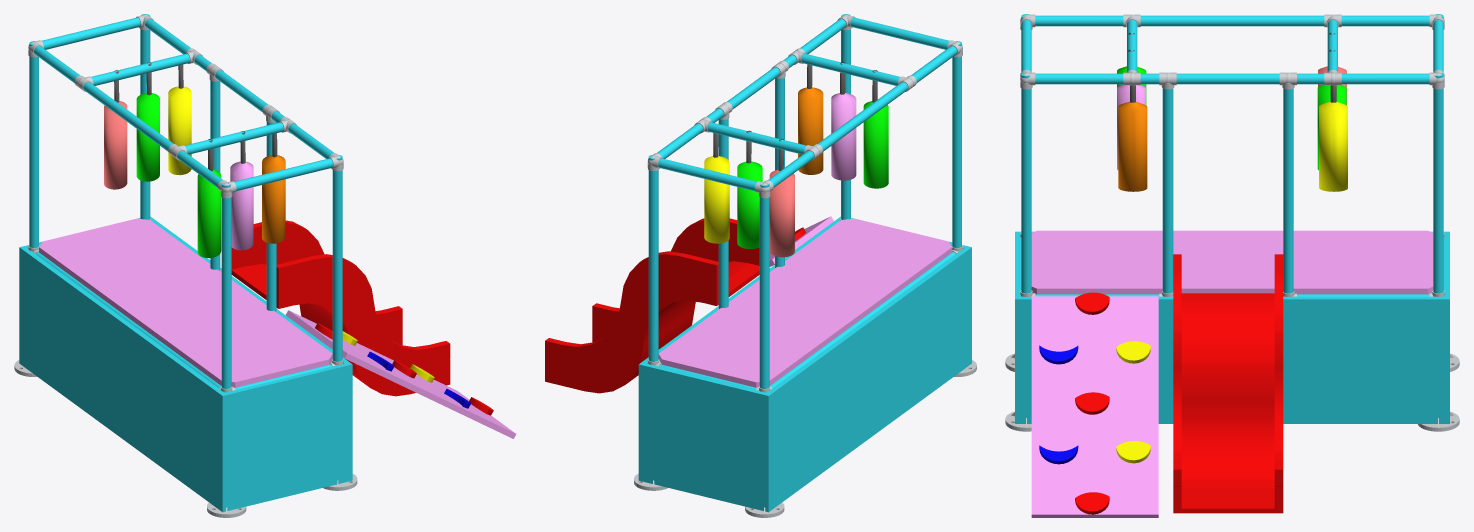
The model's file is playground-baby-sem-rampa-direita.glb.
3 views of the same model, side by side, from view 1: azimuth 30°, elevation 25°; view 2: azimuth 150°, elevation 25°; view 3: azimuth 270°, elevation 25° (orthographic). The views are drawn at different scales.
Parts seen in each view (by area): view 1: Group19, Group18, Group4, Group12, Group1, Group11, Tubo redondo 8, Tubo redondo 12, Tubo redondo 13, Group20, Tubo redondo 3, Tubo redondo 10 (+12 smaller); view 2: Group19, Group18, Group3, Group12, Group1, Tubo redondo 8, Tubo redondo 10, Tubo redondo 11, SACOS_DE_PANCADA_12_1, Group20, Group21, Tubo redondo 3 (+10 smaller); view 3: Group12, Group11, Group18, Group5, Tubo redondo 8, Tubo redondo 3, Group1, Group8, SACOS_DE_PANCADA_12_1, Tubo redondo 15, Tubo redondo 11, Tubo redondo 13 (+9 smaller).
Part boxes in pixels (x1,y1,x2,y2): Group19: [19, 246, 227, 512]; Group18: [39, 218, 332, 387]; Group4: [225, 362, 352, 510]; Group12: [231, 220, 450, 396]; Group1: [197, 131, 285, 258]; Group11: [285, 310, 516, 438]; Tubo redondo 8: [34, 46, 223, 187]; Tubo redondo 12: [221, 182, 231, 388]; Tubo redondo 13: [332, 155, 342, 361]; Group20: [104, 70, 127, 189]; Tubo redondo 3: [145, 19, 334, 158]; Tubo redondo 10: [29, 41, 38, 247]; Group19: [763, 246, 971, 512]; Group18: [658, 218, 952, 387]; Group3: [638, 362, 765, 510]; Group12: [545, 218, 759, 393]; Group1: [798, 62, 888, 188]; Tubo redondo 8: [768, 46, 957, 187]; Tubo redondo 10: [759, 182, 769, 388]; Tubo redondo 11: [648, 155, 658, 361]; SACOS_DE_PANCADA_12_1: [704, 133, 729, 243]; Group20: [769, 138, 794, 257]; Group21: [737, 130, 762, 249]; Tubo redondo 3: [657, 19, 846, 158]; Group12: [1173, 254, 1283, 513]; Group11: [1031, 296, 1158, 517]; Group18: [1031, 230, 1433, 294]; Group5: [1021, 296, 1443, 423]; Tubo redondo 8: [1035, 15, 1429, 26]; Tubo redondo 3: [1035, 73, 1429, 84]; Group1: [1117, 33, 1147, 191]; Group8: [1075, 292, 1150, 514]; SACOS_DE_PANCADA_12_1: [1319, 85, 1347, 191]; Tubo redondo 15: [1162, 88, 1173, 293]; Tubo redondo 11: [1433, 73, 1443, 293]; Tubo redondo 13: [1021, 73, 1031, 293].
Bounding box in the file's own units: 1.83 × 1.84 × 2.15.
